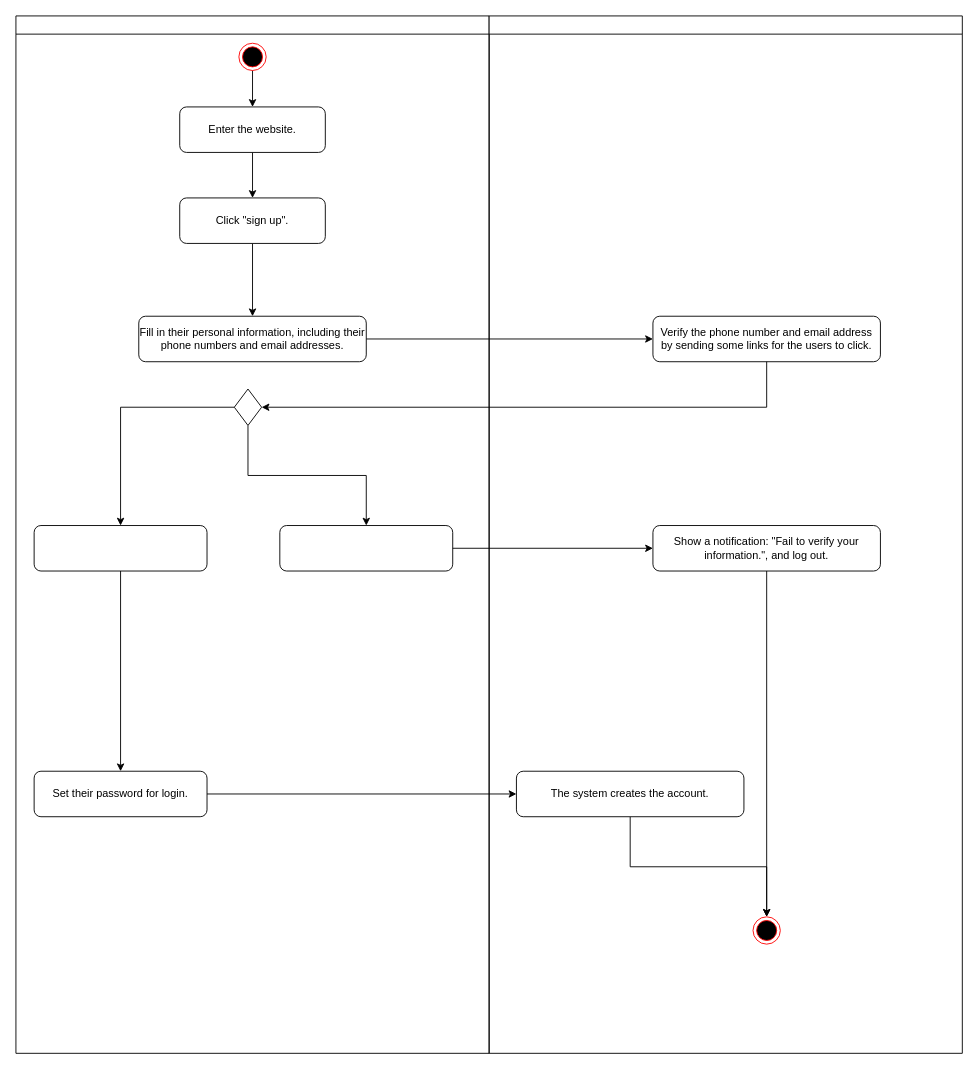
Image size: 978x1069. Some labels were removed from this diagram. The shapes that lost their labels are listed below. From the top down, each one's box as (x1, y1, x2, y2) in pixels, then its label:
(33, 525, 207, 571): Prove their info valid by clicking those links.
(15, 15, 489, 1053): Visitor
(279, 525, 453, 571): Do not click links within time limits.
(488, 15, 962, 1053): System
